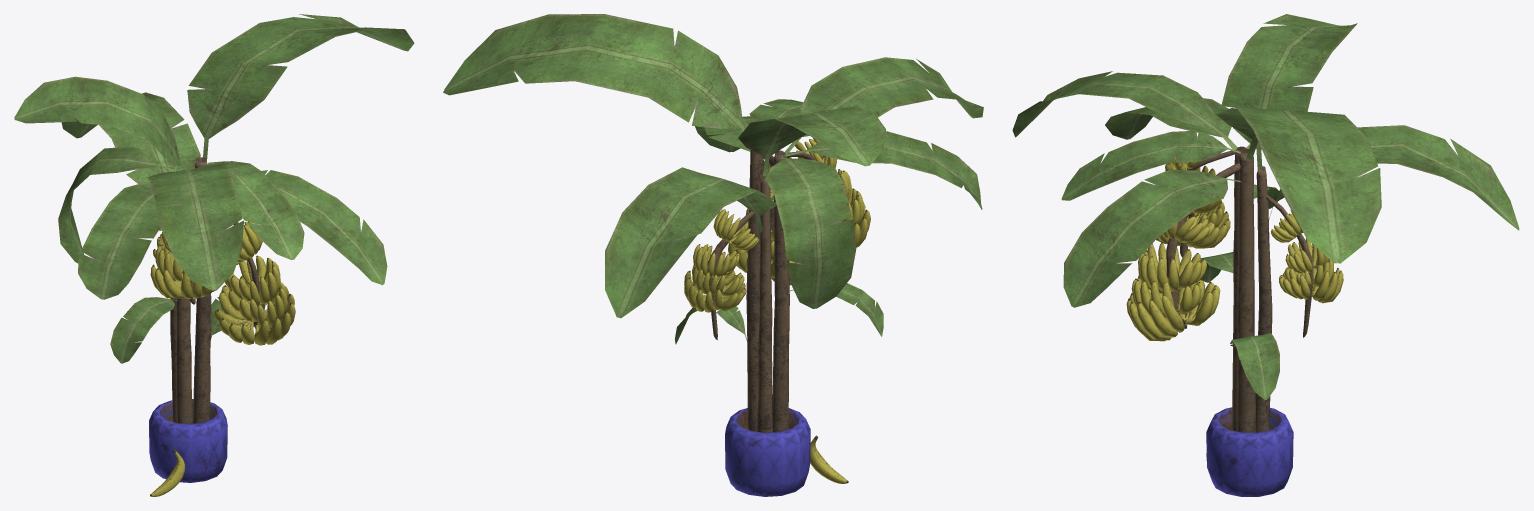
Rendered from banana_tree.fbx.
3 renders of one model, left to right at view 1: azimuth 30°, elevation 25°; view 2: azimuth 150°, elevation 25°; view 3: azimuth 270°, elevation 25°, orthographic. The views are drawn at different scales.
Visible parts, largest first — view 1: Trees, Pot, Banana; view 2: Trees, Pot, Banana; view 3: Trees, Pot.
Part boxes in pixels (left/top/right/bottom): Trees: left=14, top=14, right=414, bottom=423; Pot: left=149, top=399, right=227, bottom=482; Banana: left=150, top=449, right=184, bottom=496; Trees: left=443, top=14, right=983, bottom=432; Pot: left=725, top=408, right=810, bottom=496; Banana: left=810, top=435, right=848, bottom=483; Trees: left=1012, top=14, right=1519, bottom=432; Pot: left=1206, top=407, right=1293, bottom=496.
Bounding box in the file's own units: 978 × 902 × 954.
